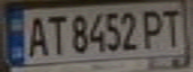2: (118, 8, 142, 52)
4: (87, 10, 106, 54)
5: (103, 9, 124, 53)
8: (66, 11, 90, 54)
A: (21, 12, 51, 59)
P: (139, 6, 169, 49)
T: (157, 6, 187, 48), (42, 11, 69, 56)
